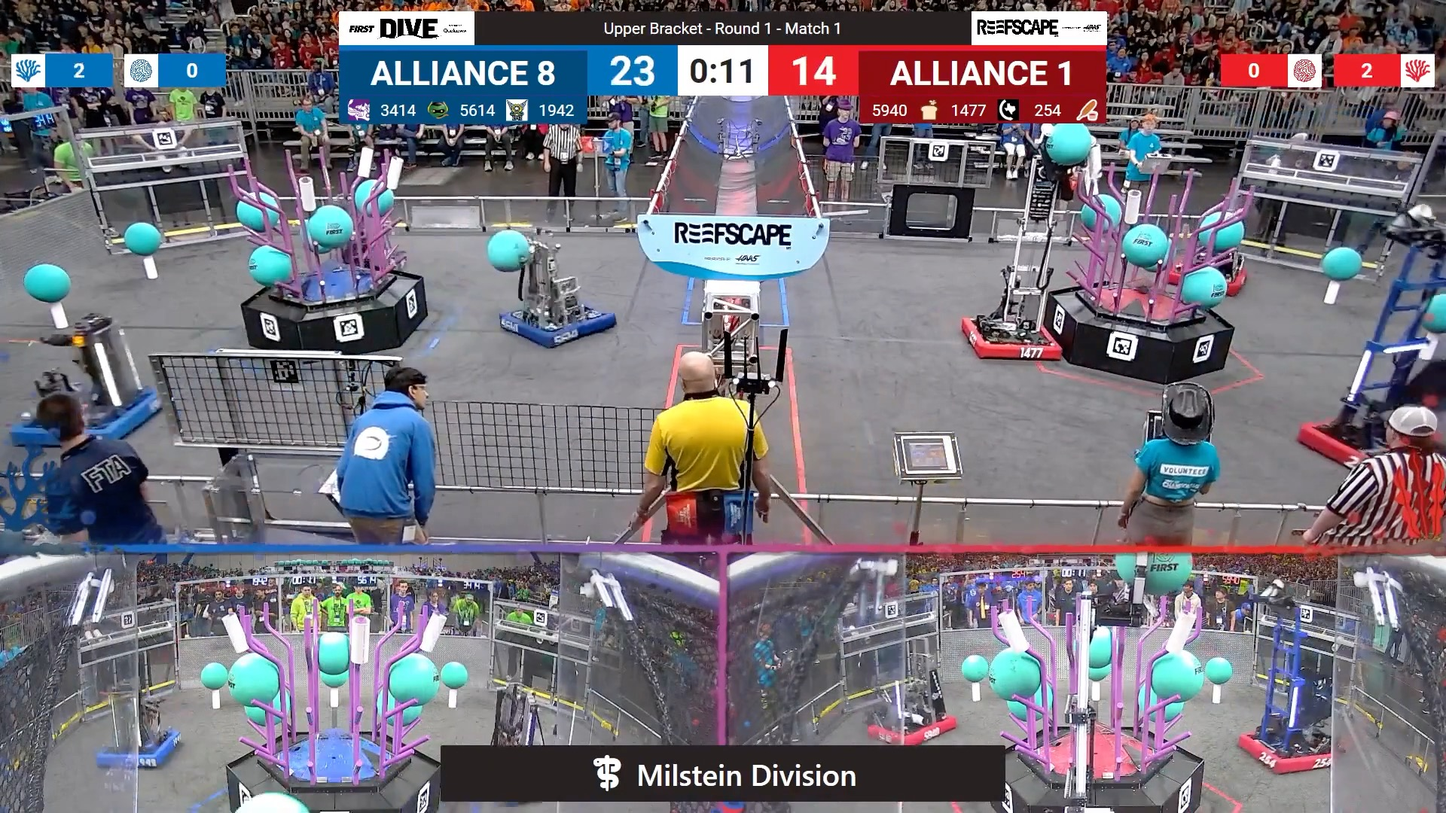bumpers: (1292, 410, 1446, 481), (14, 389, 167, 450), (1232, 724, 1351, 777), (496, 302, 622, 351), (957, 315, 1068, 365), (88, 727, 190, 771), (858, 712, 966, 747)
